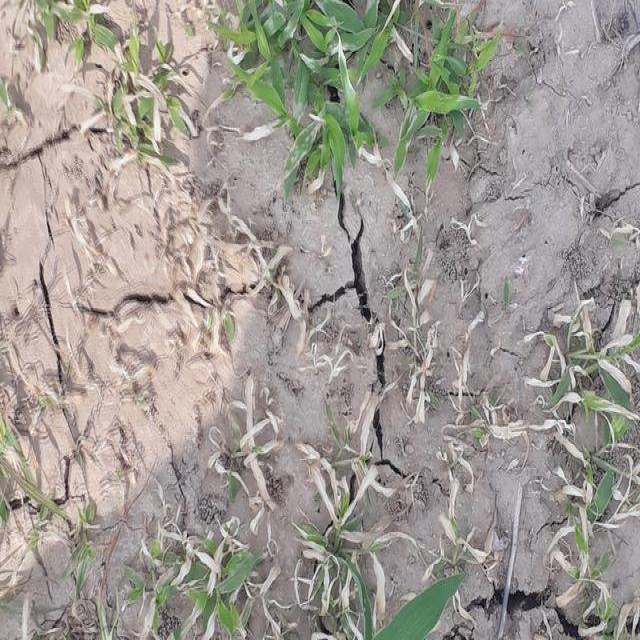weed: (248, 0, 486, 199)
